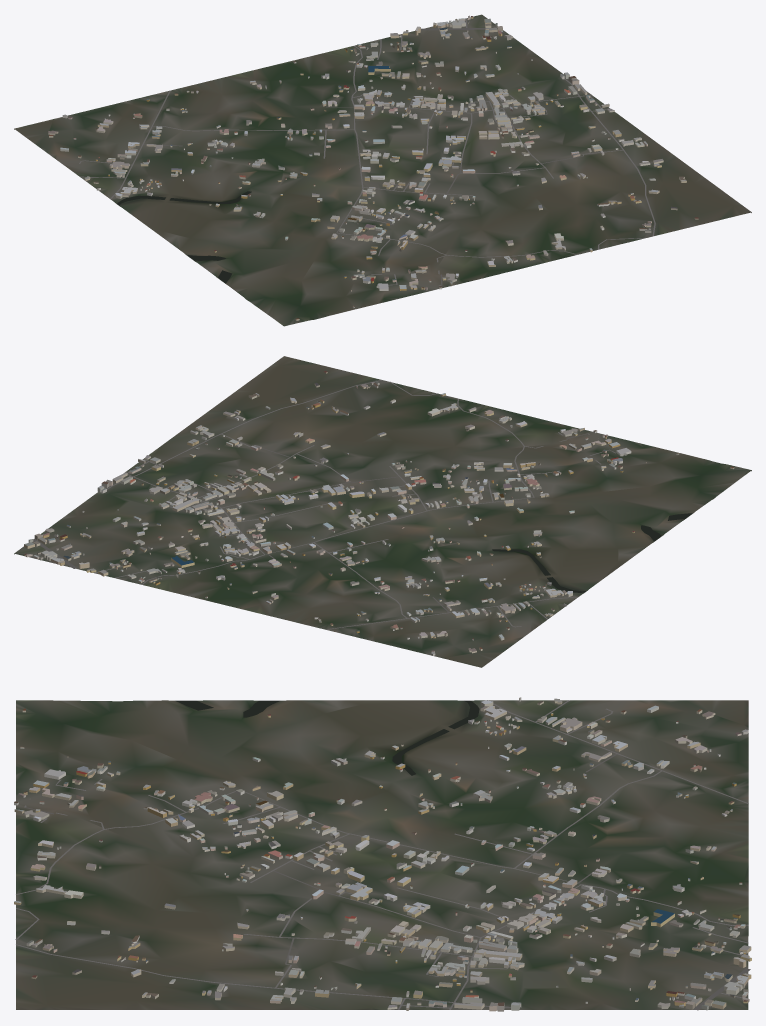
3 views of the same model, one above another, from view 1: azimuth 30°, elevation 25°; view 2: azimuth 150°, elevation 25°; view 3: azimuth 270°, elevation 25° (orthographic). The views are drawn at different scales.
Visible parts, largest first — view 1: ground, buildings, roads, water; view 2: ground, buildings, roads, water; view 3: ground, buildings, roads, water.
Part boxes in pixels (left/top/right/bottom): ground: left=14, top=14, right=751, bottom=326; buildings: left=48, top=15, right=698, bottom=320; roads: left=79, top=18, right=655, bottom=285; water: left=117, top=191, right=251, bottom=283; ground: left=14, top=356, right=751, bottom=667; buildings: left=24, top=371, right=734, bottom=655; roads: left=30, top=380, right=615, bottom=629; water: left=492, top=513, right=692, bottom=592; ground: left=16, top=700, right=748, bottom=1009; buildings: left=14, top=697, right=751, bottom=1011; roads: left=15, top=700, right=750, bottom=1010; water: left=175, top=700, right=479, bottom=775.
Size of the model in its own units: 1411 by 18 by 1411.
